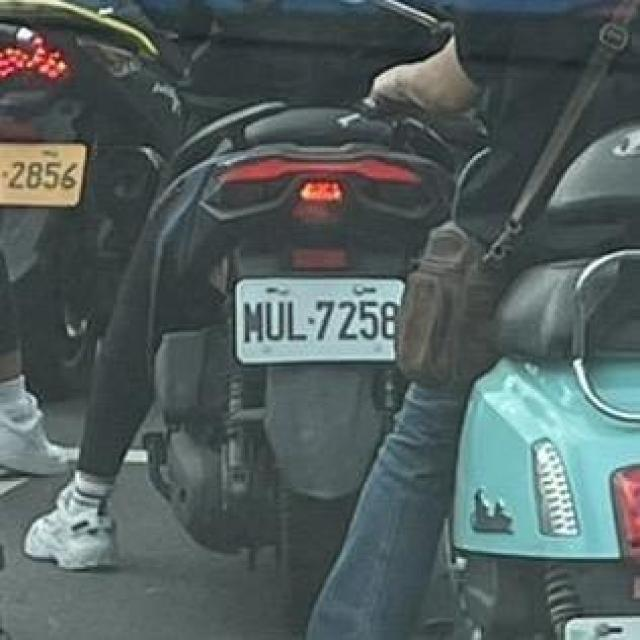W: (223, 265, 411, 375)
Y: (0, 128, 97, 216)
